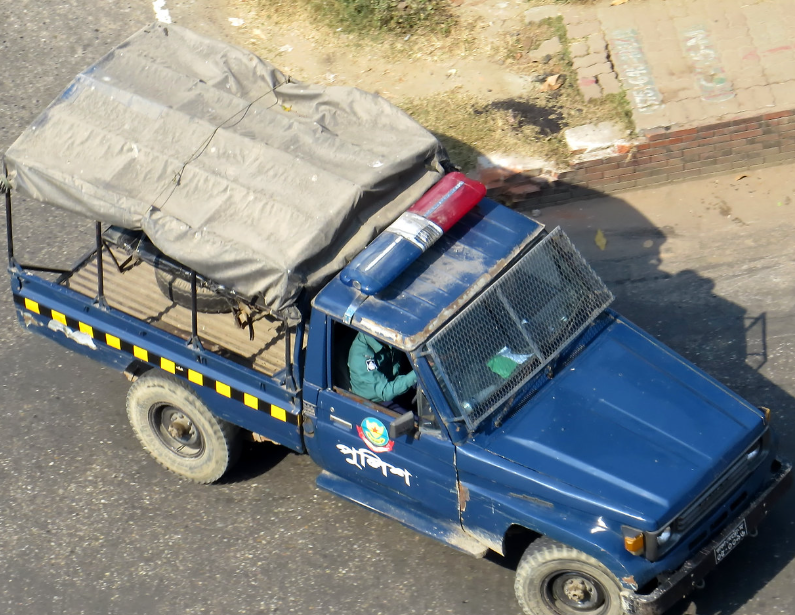Police cars: (3, 10, 795, 615)
